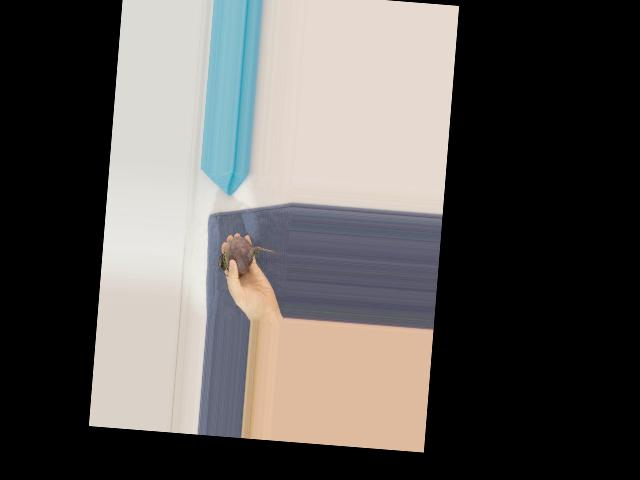beet: (217, 235, 278, 280)
